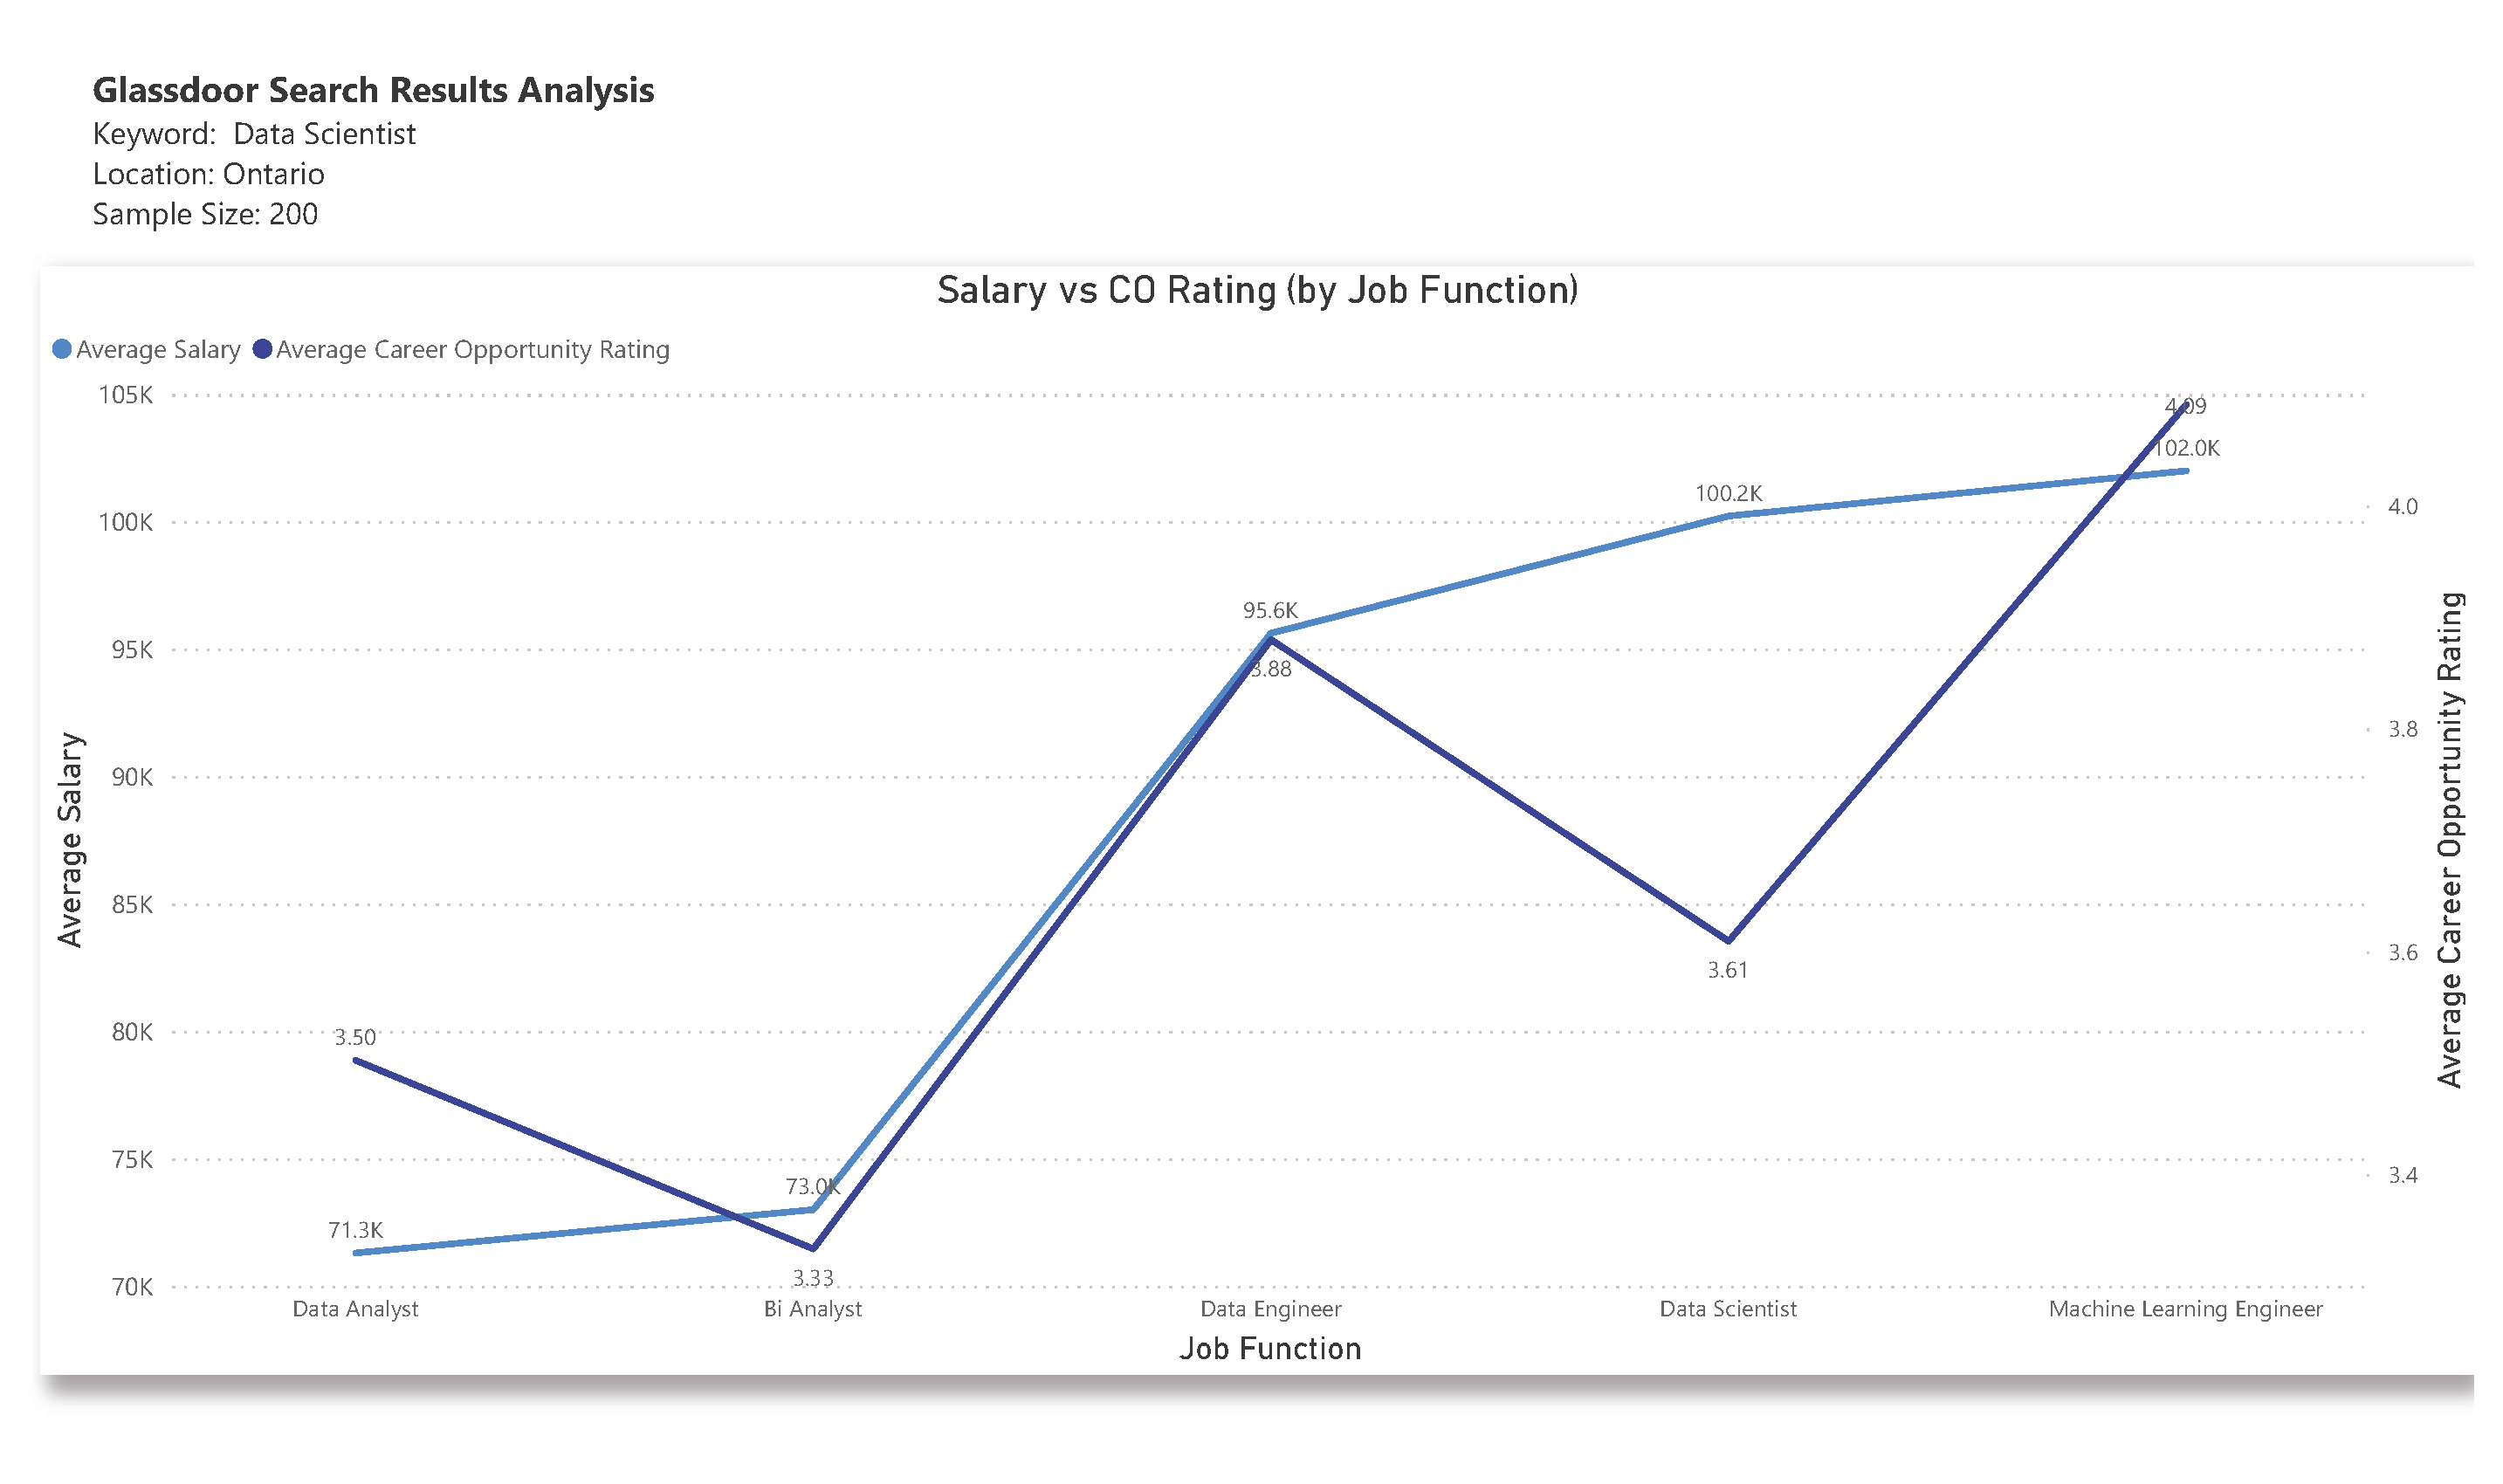

What the dashboard file says about the page in this screenshot:
{"tool":"powerbi","page":{"name":"Job Function","canvas":[1280,720],"ordinal":1},"visuals":[{"type":"lineChart","title":"Salary vs CO Rating (by Job Function)","fields":{"Category":["job func average.Job Function"],"Y":["Sum(job func average.Estimated Salary)"],"Y2":["Sum(job func average.Career Opportunitie)"]},"box":[6.2,111,1274,579.7],"z":0},{"type":"textbox","box":[28.4,0,353.3,98.5],"z":1000}]}

Visuals, with their boxes on the page's 1280x720 design canvas (x1, y1, x2, y2). These are canvas units, not pixel positions in the 2503x1484 screenshot, which may show the page scaled, cropped or inside an application window:
"Salary vs CO Rating (by Job Function)" lineChart: pyautogui.locateOnScreen(6, 111, 1280, 691)
textbox: pyautogui.locateOnScreen(28, 0, 382, 98)
